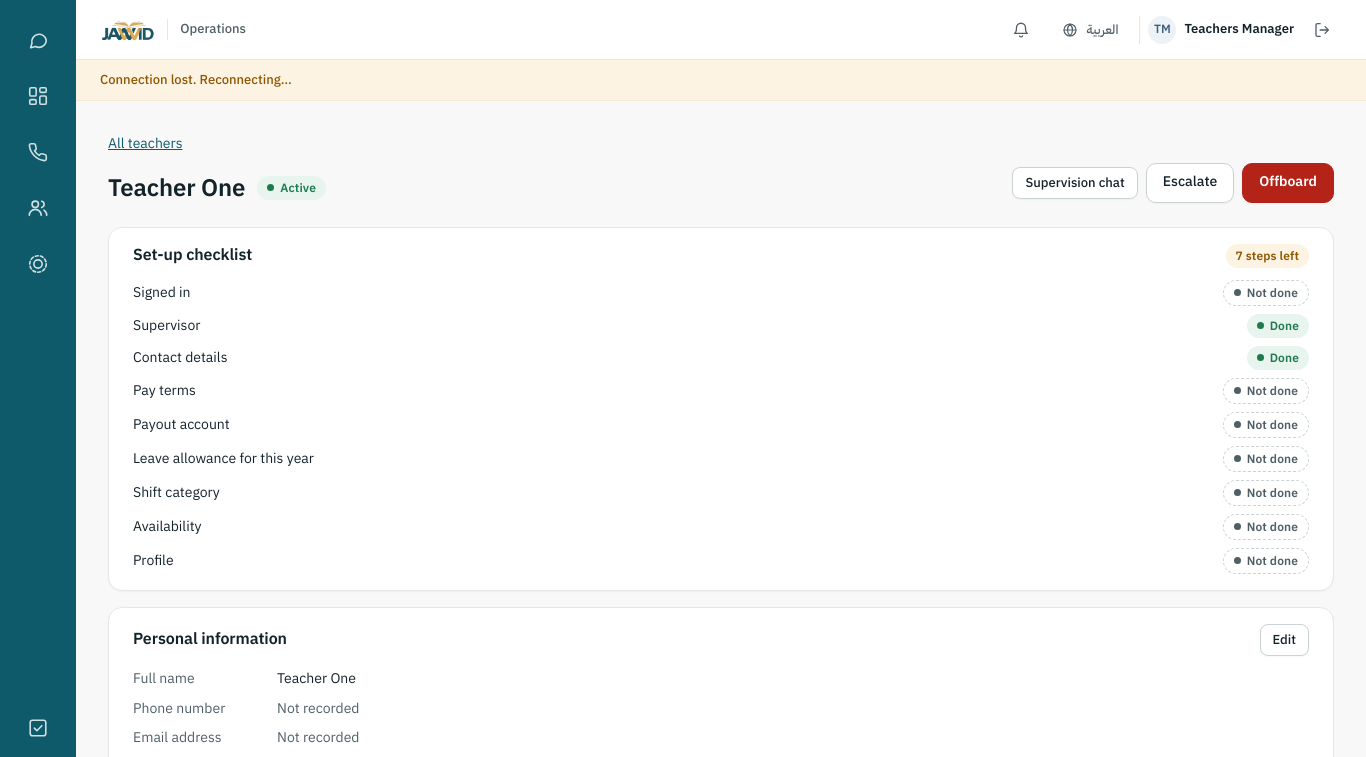
Test case: Offboard › a lesson the server could not cancel: said, and the teacher stays
The width and height of the screenshot is (1366, 757).
Click the button "Offboard": coordinates (1288, 183) [1242, 163, 1334, 203]
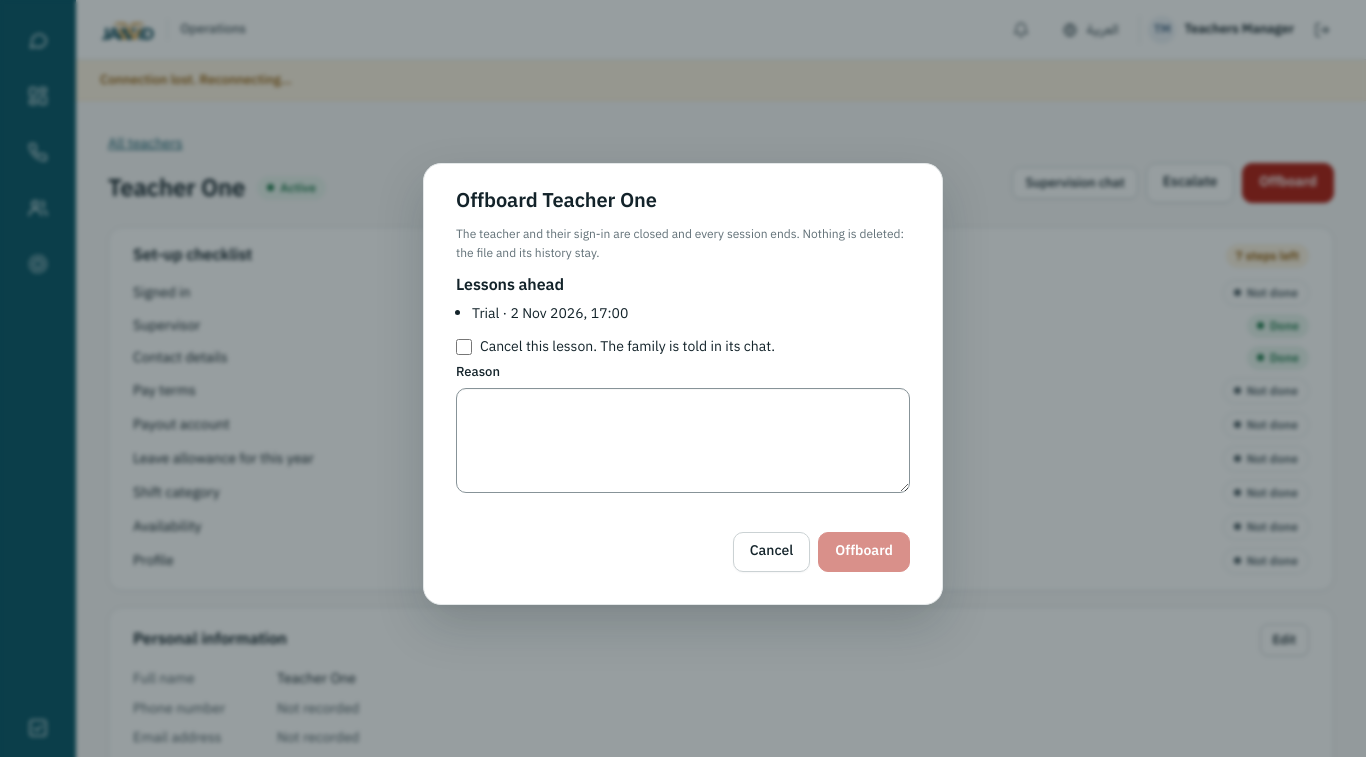
In the text box labelled "Reason": coordinates (683, 440) [456, 388, 910, 493], type "Left the academy"
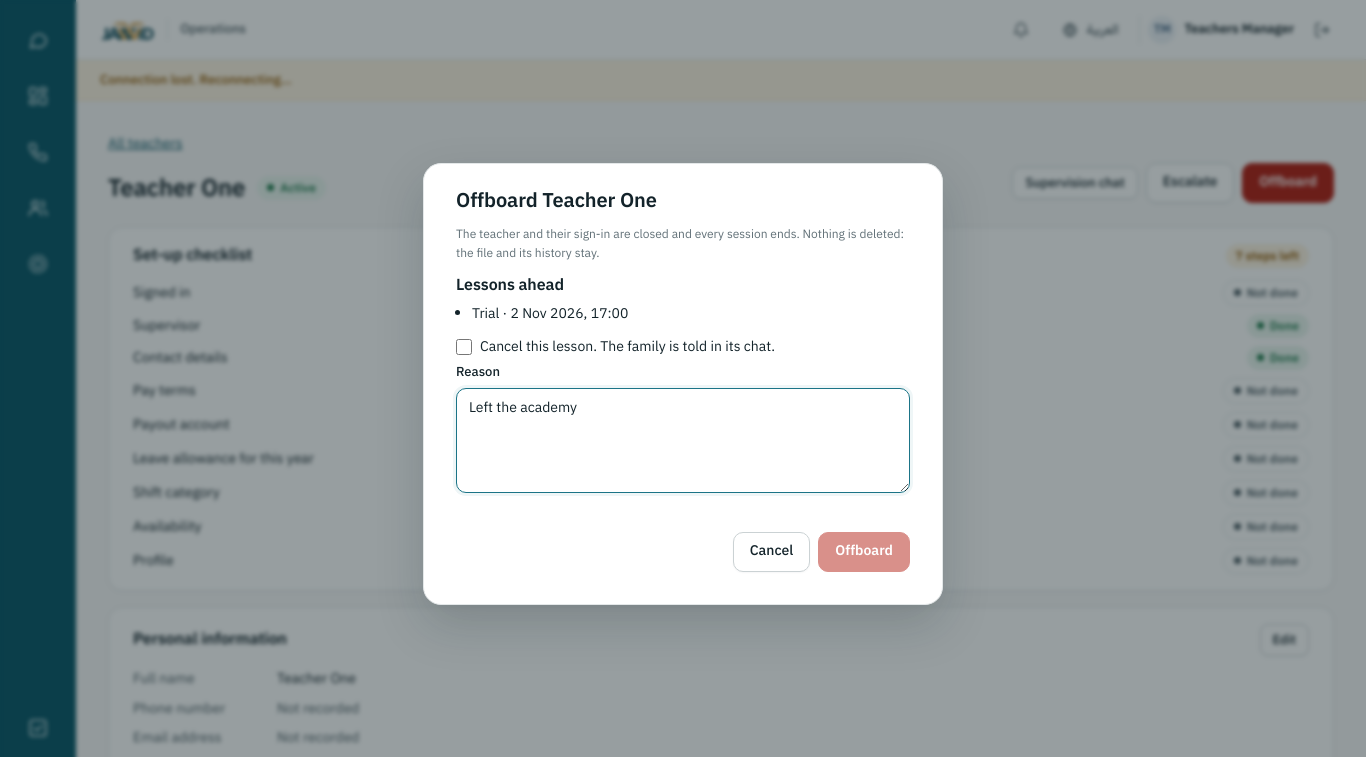
Click the checkbox labelled "Cancel this lesson. The family is told in its chat.": coordinates (464, 347) [456, 339, 472, 355]
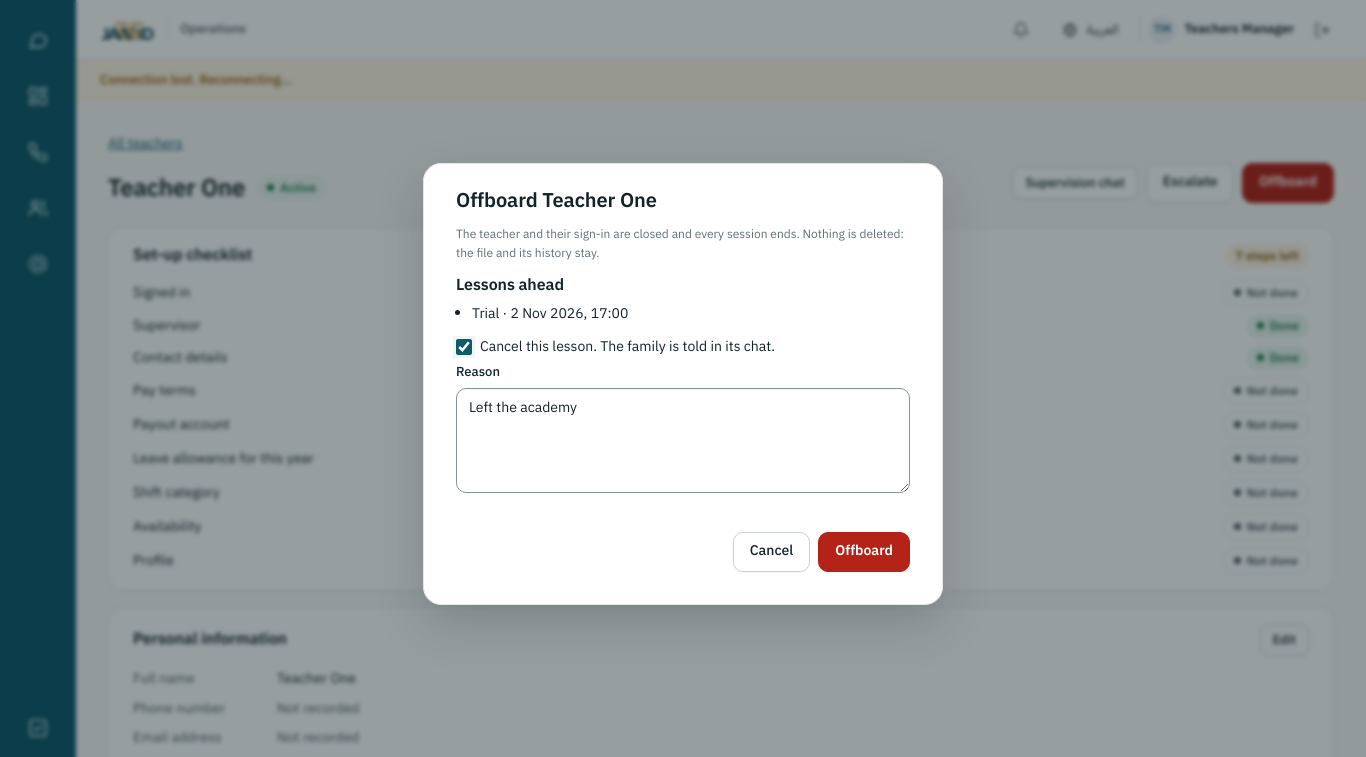
Click the button "Offboard" below "2 Nov 2026, 17:00": coordinates (864, 552) [818, 532, 910, 572]
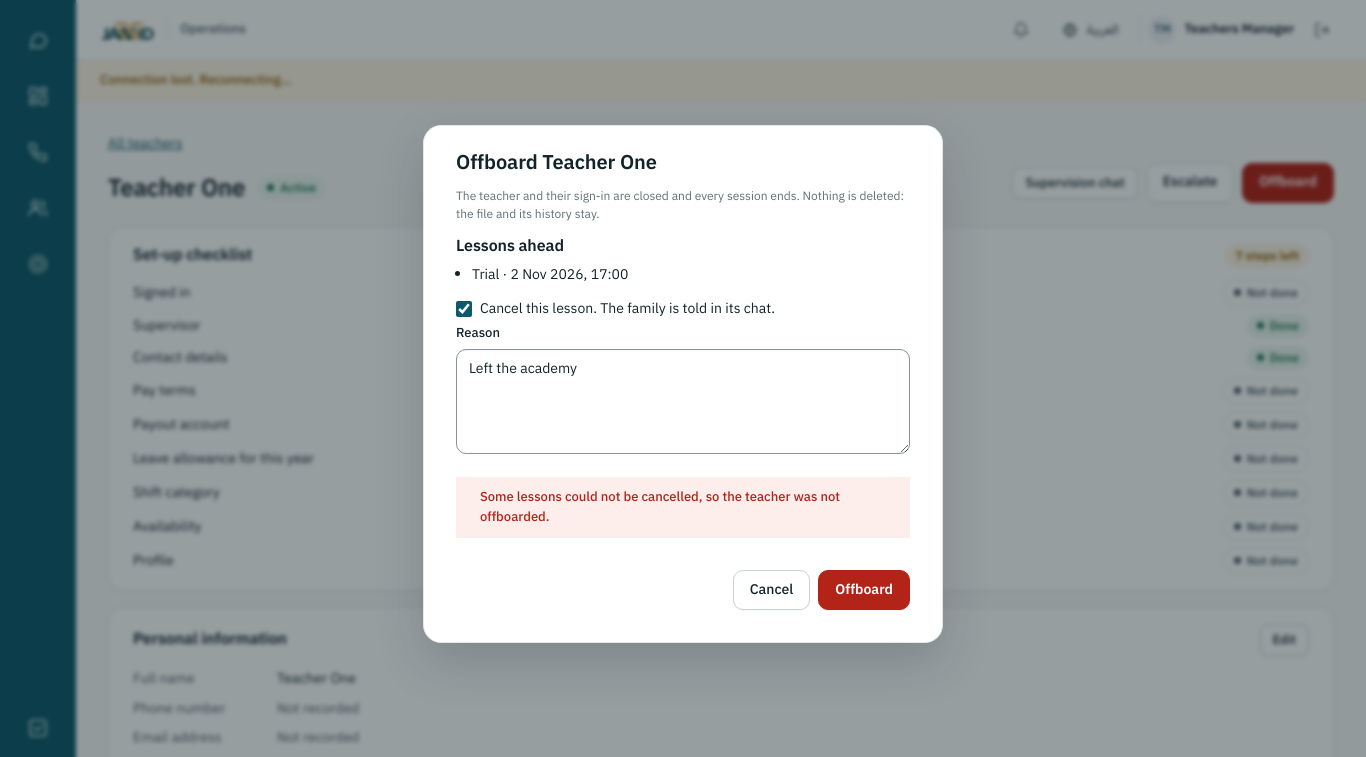
Expected: the message "Some lessons could not be cancelled, so the teacher was not offboarded." is shown, [456, 477, 910, 538]
